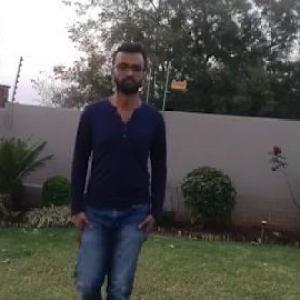follow: (70, 44, 162, 299)
